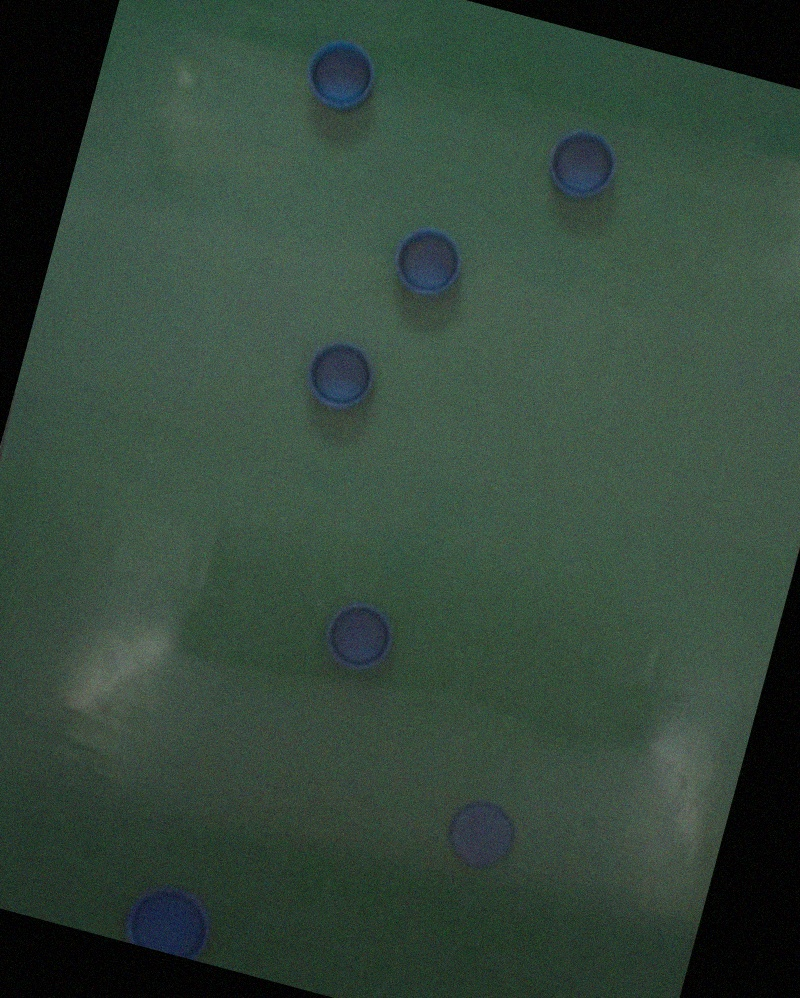Dark Blue: (300, 32, 381, 116), (542, 122, 622, 206), (300, 336, 379, 417), (441, 794, 520, 875), (320, 597, 399, 678), (126, 882, 209, 957), (390, 226, 469, 302)
